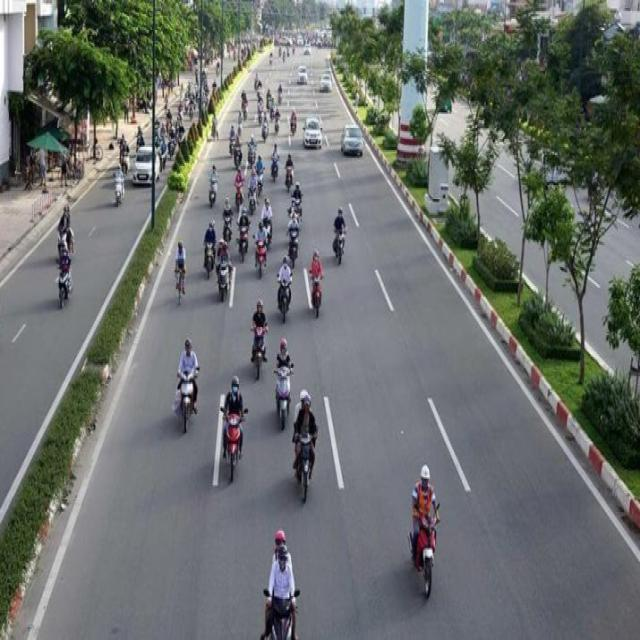Bicycle: (174, 242, 187, 306)
car: (136, 144, 159, 191), (340, 126, 364, 154), (304, 116, 323, 150), (319, 74, 332, 92), (297, 66, 306, 85), (304, 45, 310, 57), (297, 35, 303, 46)
motobyte: (413, 472, 441, 602), (267, 528, 293, 640), (218, 374, 242, 485), (177, 338, 199, 436), (296, 397, 315, 502), (275, 339, 293, 430), (251, 303, 267, 381), (217, 242, 234, 302), (309, 252, 323, 320), (56, 209, 74, 259), (279, 260, 292, 327), (56, 250, 71, 308), (204, 222, 216, 282), (334, 209, 346, 265), (256, 226, 266, 280), (261, 200, 272, 244), (239, 212, 248, 264), (290, 217, 298, 269), (114, 166, 124, 207), (225, 197, 233, 246), (272, 143, 282, 182), (285, 152, 294, 191), (289, 197, 299, 228), (209, 164, 216, 208), (235, 170, 243, 208), (249, 170, 256, 212), (294, 183, 302, 218), (234, 137, 242, 169), (211, 114, 219, 145), (123, 140, 129, 176), (152, 118, 160, 144), (257, 156, 262, 194), (248, 135, 254, 166), (262, 114, 268, 144), (170, 124, 175, 160), (229, 125, 235, 154), (177, 117, 183, 144), (274, 108, 280, 134), (161, 137, 166, 168), (270, 97, 276, 121), (291, 112, 296, 139), (166, 107, 172, 129), (237, 114, 242, 140), (243, 98, 248, 124), (258, 103, 264, 124), (277, 85, 283, 105), (241, 89, 246, 112), (183, 95, 189, 114), (257, 86, 263, 104), (188, 102, 193, 122), (137, 132, 144, 145), (160, 122, 166, 137), (178, 102, 183, 120), (268, 52, 273, 66), (282, 50, 286, 64), (255, 73, 258, 89), (259, 79, 262, 93), (278, 47, 281, 57), (292, 45, 295, 54), (287, 46, 289, 56)
